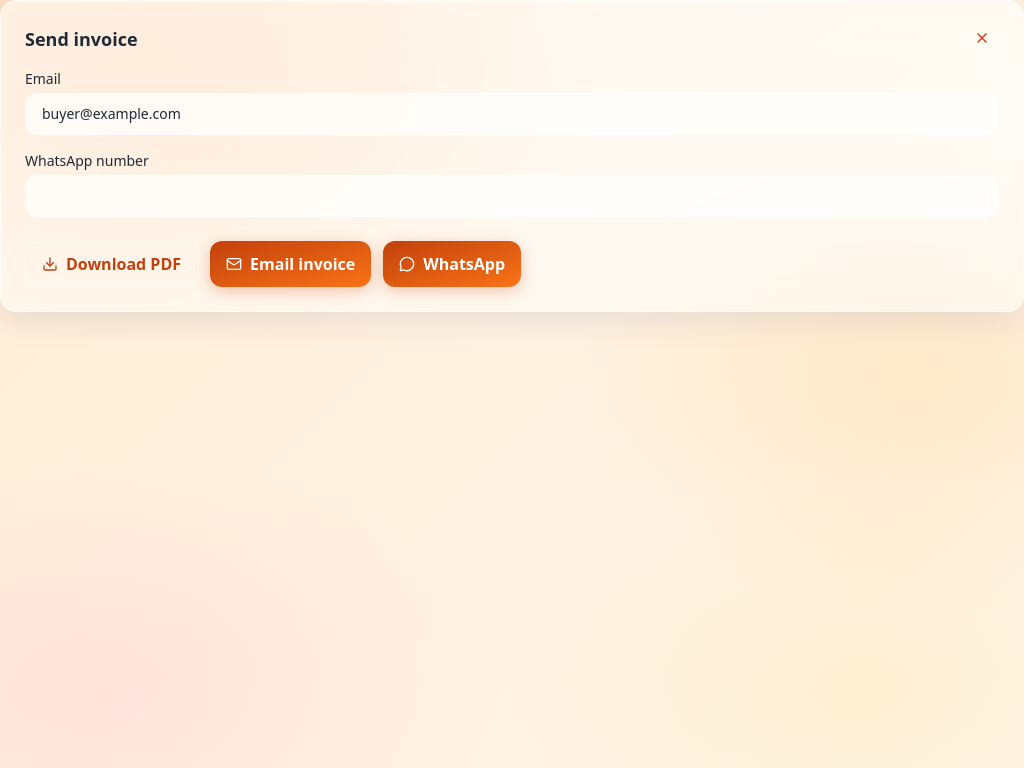
Test case: SendInvoiceDialog › blocks WhatsApp when there is no phone number
Click the button "WhatsApp".
click(452, 264)  # box [383,241,521,287]
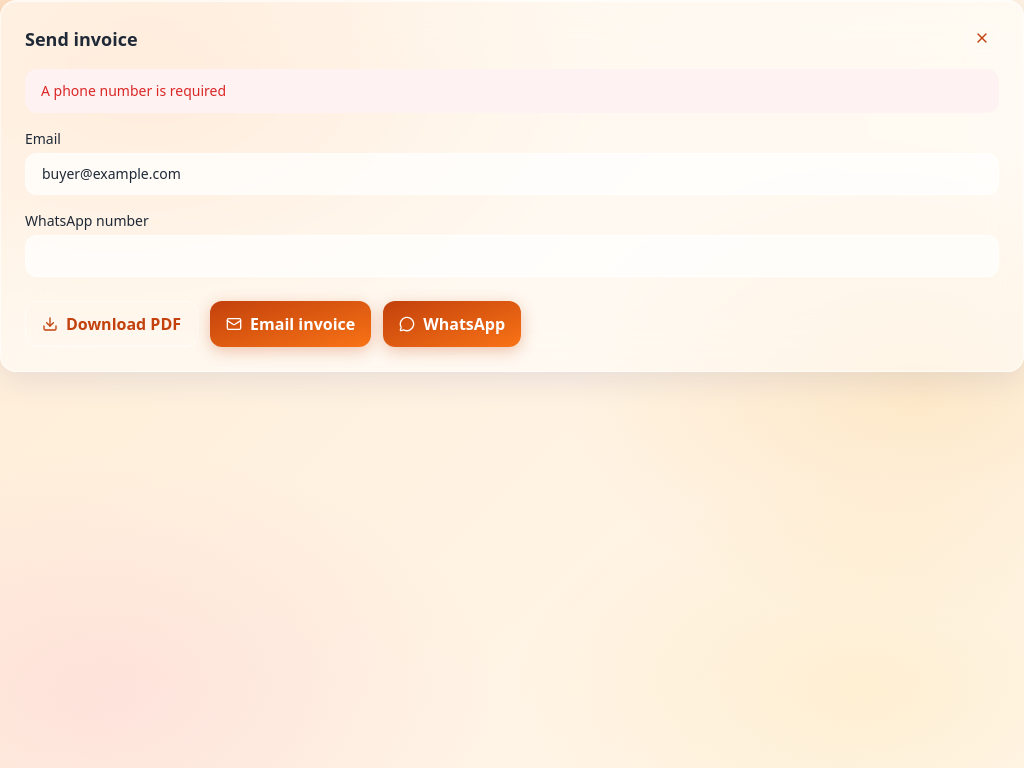
Check: the text "A phone number is required" is shown, box [25,69,999,113]
